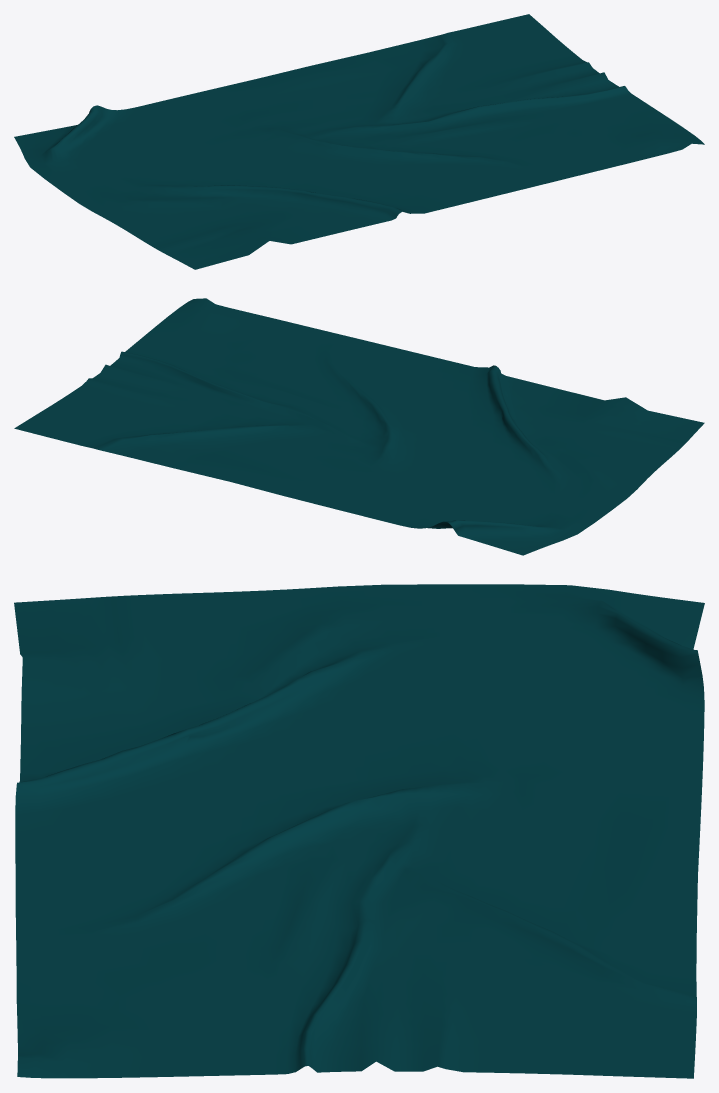
The model's file is SM_RectangularBlueCarpet.FBX.
3 renders of one model, top to bottom at view 1: azimuth 30°, elevation 25°; view 2: azimuth 150°, elevation 25°; view 3: azimuth 270°, elevation 25°, orthographic. The views are drawn at different scales.
Parts seen in each view (by area): view 1: SM_RectangularBlueCarpet; view 2: SM_RectangularBlueCarpet; view 3: SM_RectangularBlueCarpet.
Part boxes in pixels (box(x1,y1,x2,y2)): SM_RectangularBlueCarpet: box(14, 14, 704, 269); SM_RectangularBlueCarpet: box(14, 298, 704, 555); SM_RectangularBlueCarpet: box(14, 584, 704, 1078).
Bounding box in the file's own units: 497 × 293 × 11.62.
